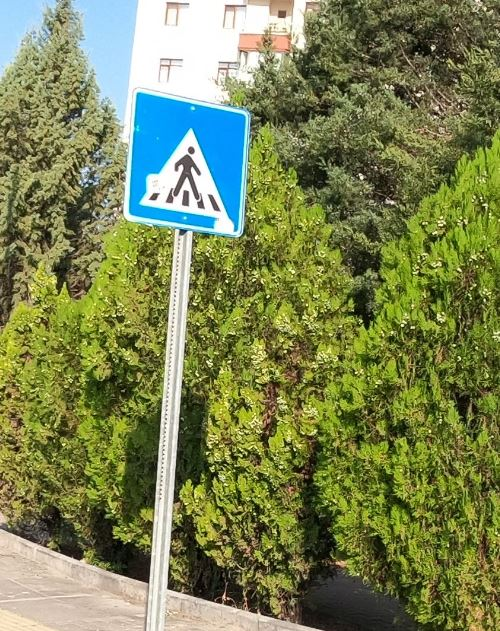Yaya Gecidi: (134, 91, 249, 239)
